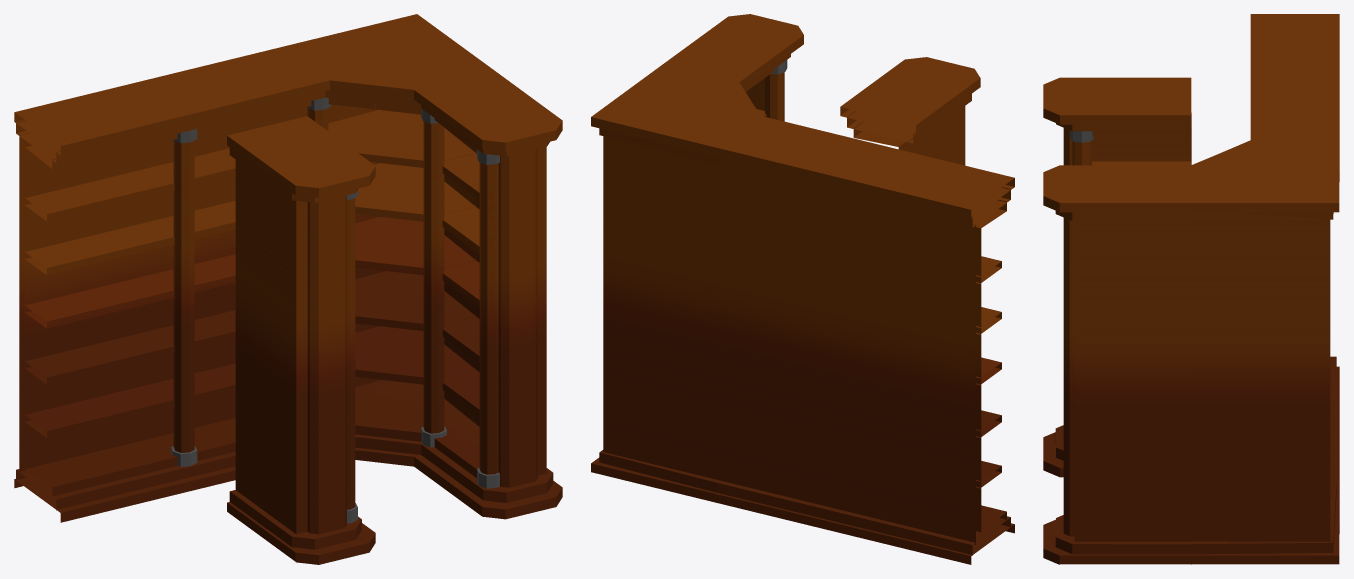
The model's file is Bookshelf 02.c.fbx.
3 renders of one model, left to right at view 1: azimuth 30°, elevation 25°; view 2: azimuth 150°, elevation 25°; view 3: azimuth 270°, elevation 25°, orthographic. The views are drawn at different scales.
Visible parts, largest first — view 1: Bookshelf 02.c; view 2: Bookshelf 02.c; view 3: Bookshelf 02.c.
Boxes of the visible parts, bbox=[...] form: Bookshelf 02.c: bbox=[14, 14, 562, 564]; Bookshelf 02.c: bbox=[591, 14, 1014, 564]; Bookshelf 02.c: bbox=[1043, 14, 1339, 564].
Bounding box in the file's own units: 299 × 267 × 198.
